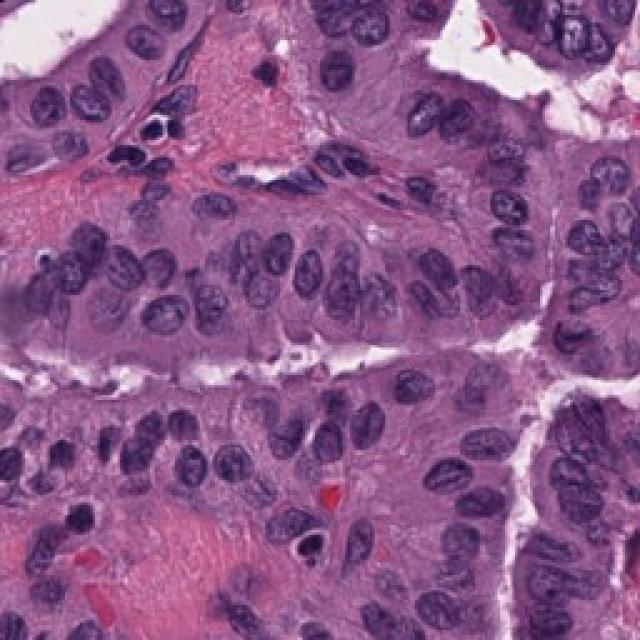abnormal: (389, 573, 492, 640), (430, 397, 518, 469), (513, 557, 607, 623), (106, 424, 194, 491), (337, 383, 404, 468), (455, 207, 539, 272), (414, 230, 470, 327), (535, 399, 611, 469), (441, 470, 510, 547), (12, 559, 80, 635), (501, 514, 593, 567), (54, 68, 126, 133), (133, 276, 192, 355), (545, 470, 620, 528), (351, 266, 406, 345), (329, 0, 423, 45), (79, 266, 141, 334), (430, 87, 491, 156), (549, 214, 619, 274), (582, 130, 640, 202), (210, 418, 254, 505), (260, 400, 314, 470), (53, 206, 106, 274), (237, 247, 287, 317), (470, 178, 538, 229), (191, 269, 239, 341), (392, 358, 441, 427), (412, 449, 475, 501), (103, 216, 147, 289), (172, 176, 230, 231), (554, 0, 598, 70), (292, 243, 337, 310), (404, 70, 440, 151), (254, 218, 292, 276)
